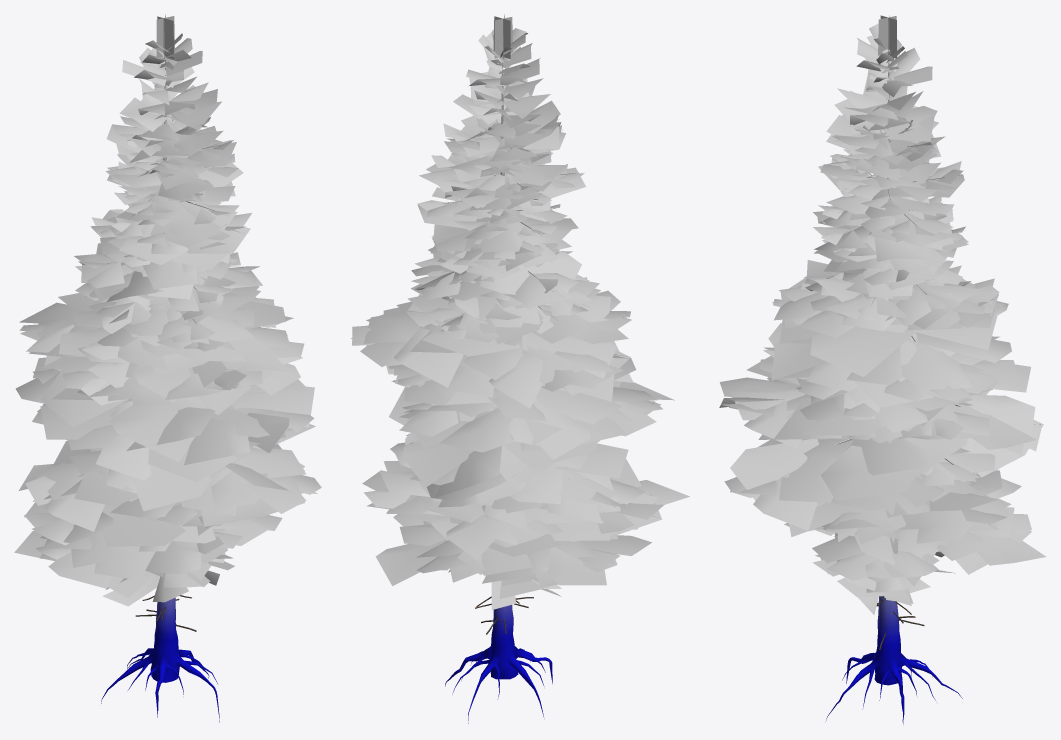
File: Fir_01_LOD1.fbx
3 renders of one model, left to right at view 1: azimuth 30°, elevation 25°; view 2: azimuth 150°, elevation 25°; view 3: azimuth 270°, elevation 25°, orthographic.
Visible parts, largest first — view 1: polySurface3122; view 2: polySurface3122; view 3: polySurface3122.
Part boxes in pixels (x1=…): polySurface3122: x1=14, y1=14, x2=321, y2=722; polySurface3122: x1=351, y1=14, x2=689, y2=723; polySurface3122: x1=719, y1=15, x2=1046, y2=723.
Bounding box in the file's own units: 563 × 1397 × 598.
